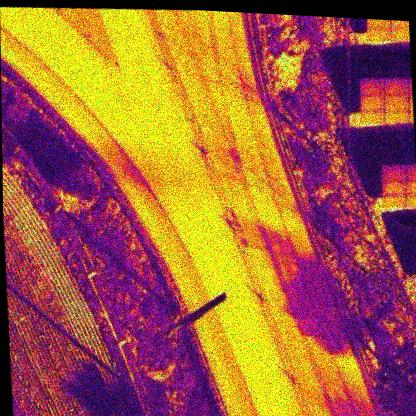Normal: (383, 106, 411, 125), (385, 91, 412, 110), (360, 108, 386, 126), (359, 92, 385, 110), (367, 25, 392, 43), (384, 78, 410, 94), (360, 77, 385, 93), (382, 192, 406, 208), (382, 178, 406, 194), (383, 164, 407, 180), (367, 19, 391, 27)
